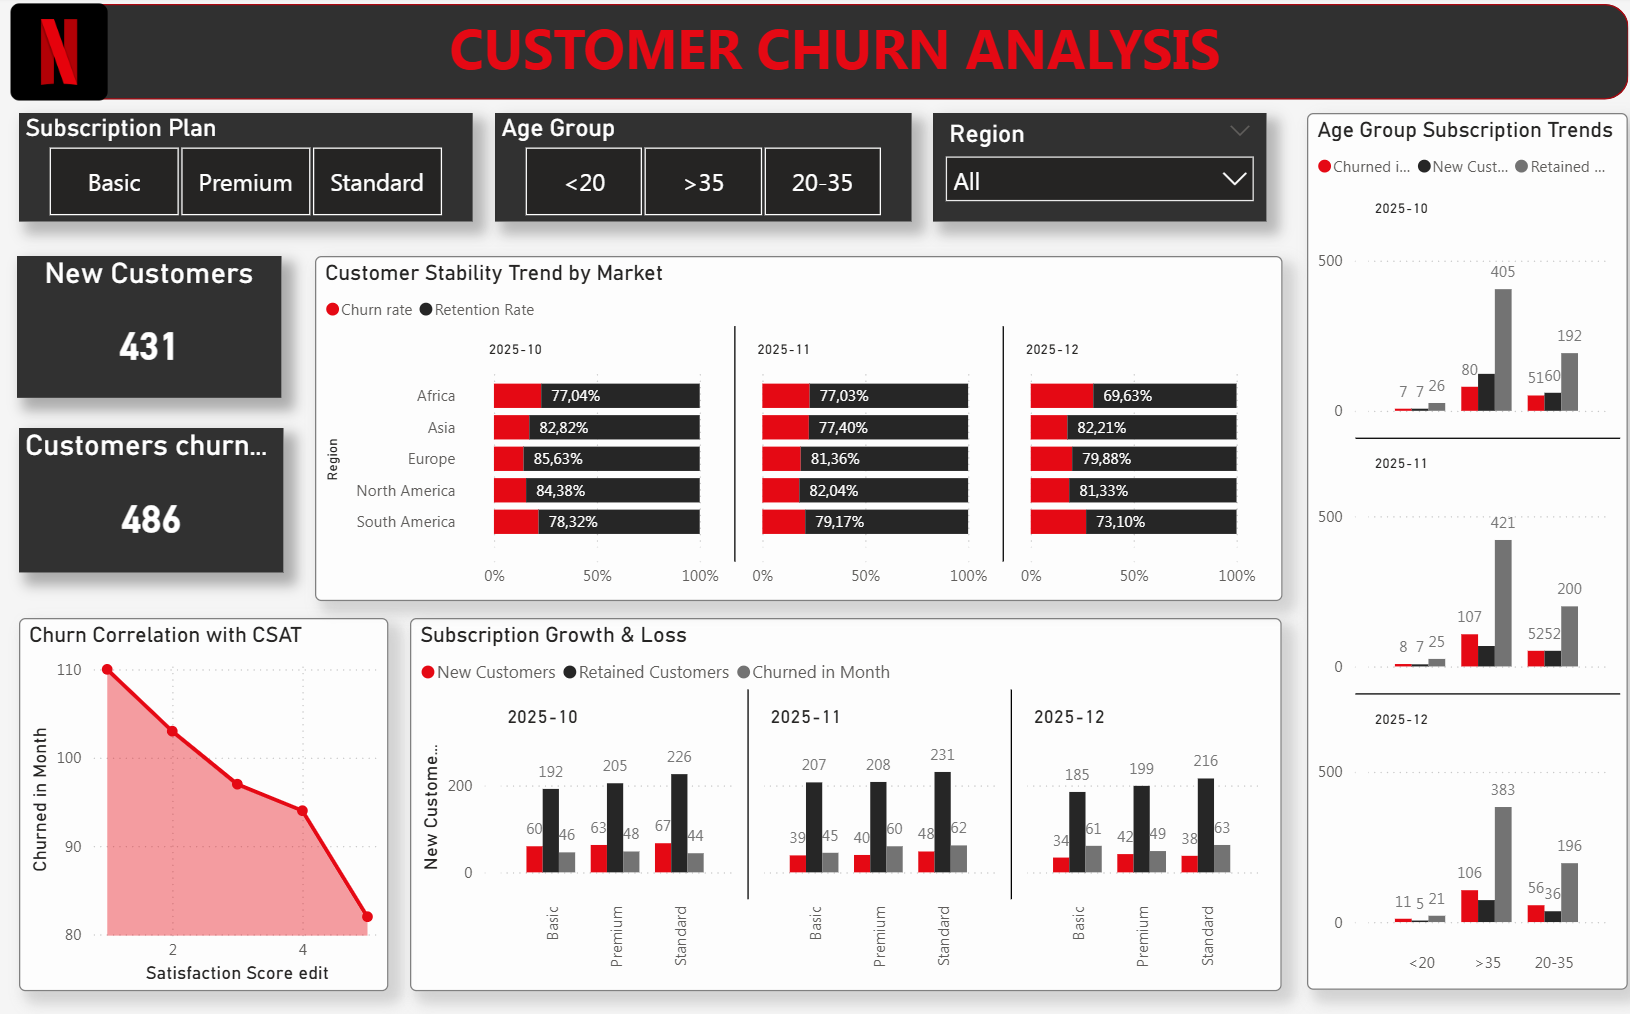

Layout of this report page (visuals, bound fields, positions):
{"tool":"powerbi","page":{"name":"Churn ","canvas":[1280,800],"ordinal":1},"visuals":[{"type":"card","title":"New Customers","fields":{"Values":["Dim_User_Subscription.New Customers"]},"box":[14.4,202.5,206.8,110.6],"z":0},{"type":"clusteredColumnChart","title":"Subscription Growth & Loss","fields":{"Category":["Dim_User_Subscription.Subscription Plan"],"Y":["Dim_User_Subscription.New Customers","Dim_User_Subscription.Retained Customers","Dim_User_Subscription.Churned in Month"],"Rows":["Date_Table.YearMonth"]},"box":[321.2,485.9,682.1,291.5],"z":1000},{"type":"hundredPercentStackedBarChart","title":"Customer Stability Trend by Market","fields":{"Rows":["Date_Table.YearMonth"],"Category":["Dim_Customer.Region"],"Y":["Dim_User_Subscription.Churn rate","Dim_User_Subscription.Retention Rate"]},"box":[247,202.5,756.8,270],"z":2000},{"type":"clusteredColumnChart","title":"Age Group Subscription Trends","fields":{"Rows":["Date_Table.YearMonth"],"Y":["Dim_User_Subscription.Churned in Month","Dim_User_Subscription.New Customers","Dim_User_Subscription.Retained Customers"],"Category":["Dim_Customer.Age group"]},"box":[1023.4,91,251.3,686.4],"z":3000},{"type":"stackedAreaChart","title":"Churn Correlation with CSAT","fields":{"Y":["Dim_User_Subscription.Churned in Month"],"Category":["Fact_Customer_Q4.Satisfaction Score edit"]},"box":[15.3,485.9,288.6,291.5],"z":4000},{"type":"card","title":"Customers churned","fields":{"Values":["Dim_User_Subscription.Churned in Month"]},"box":[15.8,337.5,206.8,113.4],"z":5000},{"type":"slicer","title":"Subscription Plan","fields":{"Values":["Dim_User_Subscription.Subscription Plan"]},"box":[15.8,90.5,354.7,84.7],"z":6000},{"type":"slicer","title":"Age Group","fields":{"Values":["Dim_Customer.Age group"]},"box":[387.7,90.5,326,84.7],"z":7000},{"type":"slicer","fields":{"Values":["Dim_Customer.Region"]},"box":[730.5,91,261.4,84.7],"z":8000},{"type":"shape","box":[15.8,5.7,1259.4,74.7],"z":9000},{"type":"textbox","box":[347.5,5.7,627.6,96.2],"z":10000},{"type":"image","box":[0,0,93.3,86.2],"z":11000}]}

Visuals, with their boxes in screenshot pixels (x1, y1, x2, y2), scaled from the page's 1280x800 canvas onto the 1630x1014 screenshot:
"New Customers" card: locate(18, 257, 282, 397)
"Subscription Growth & Loss" clusteredColumnChart: locate(409, 616, 1278, 985)
"Customer Stability Trend by Market" hundredPercentStackedBarChart: locate(315, 257, 1278, 599)
"Age Group Subscription Trends" clusteredColumnChart: locate(1303, 115, 1623, 985)
"Churn Correlation with CSAT" stackedAreaChart: locate(19, 616, 387, 985)
"Customers churned" card: locate(20, 428, 283, 572)
"Subscription Plan" slicer: locate(20, 115, 472, 222)
"Age Group" slicer: locate(494, 115, 909, 222)
slicer - Dim_Customer.Region: locate(930, 115, 1263, 223)
shape: locate(20, 7, 1624, 102)
textbox: locate(443, 7, 1242, 129)
image: locate(0, 0, 119, 109)
